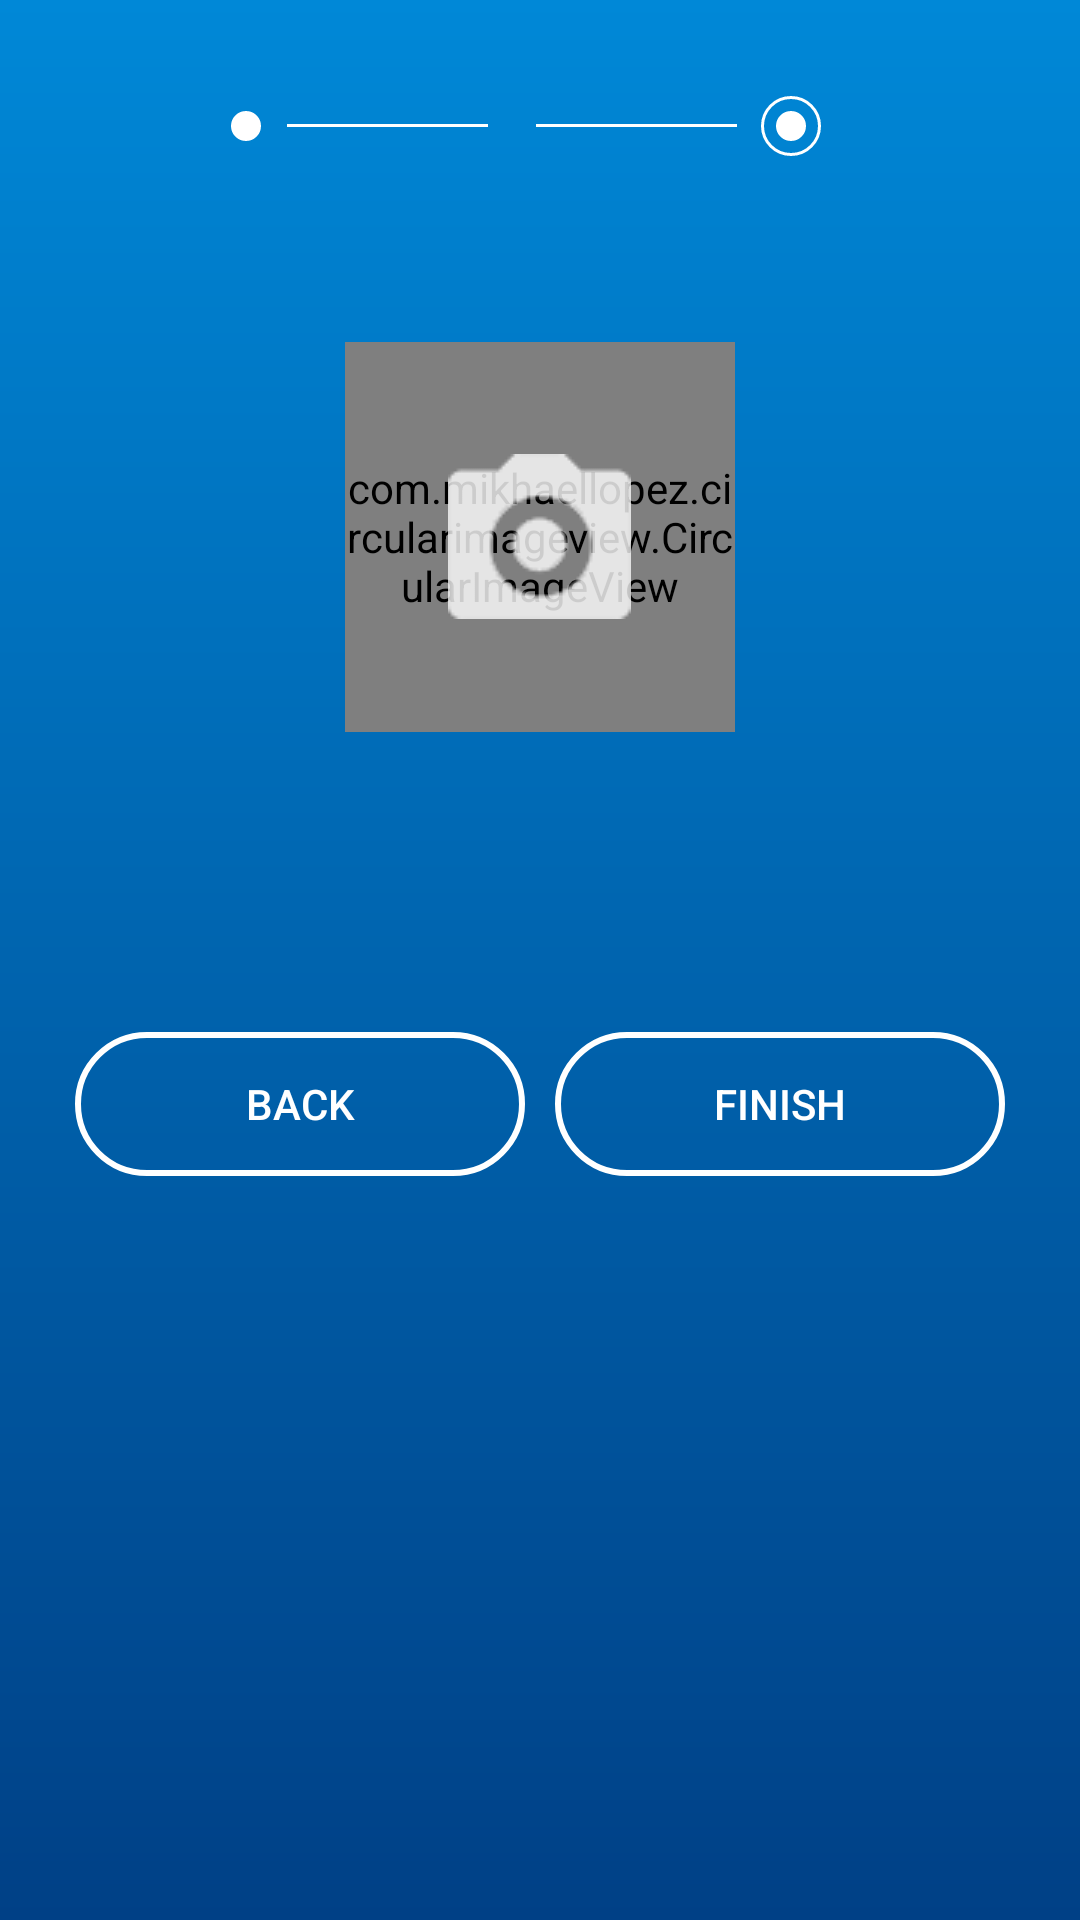

Locate icon controls on the screen. Image size 1080 × 1920, boxes as BBox(x1, y1, x2, y2).
camera: BBox(448, 454, 631, 619)
signupindexicon: BBox(761, 96, 821, 156)
